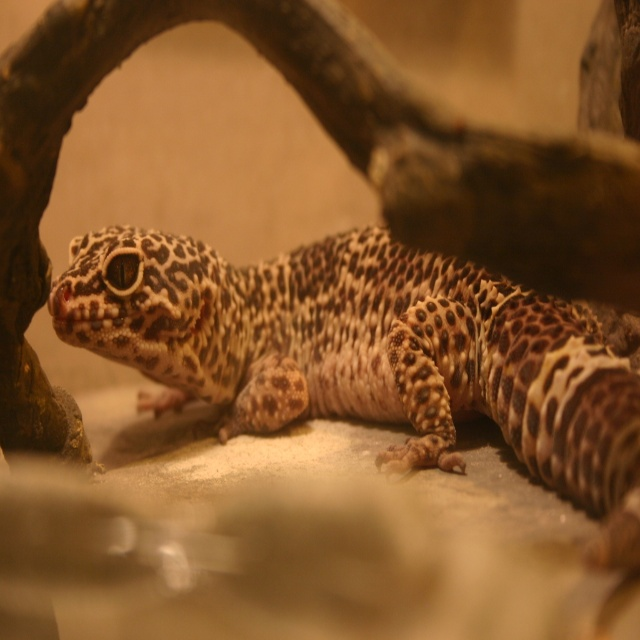Lizard: (47, 221, 639, 521)
